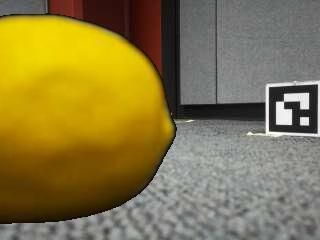lemon: (0, 20, 174, 223)
